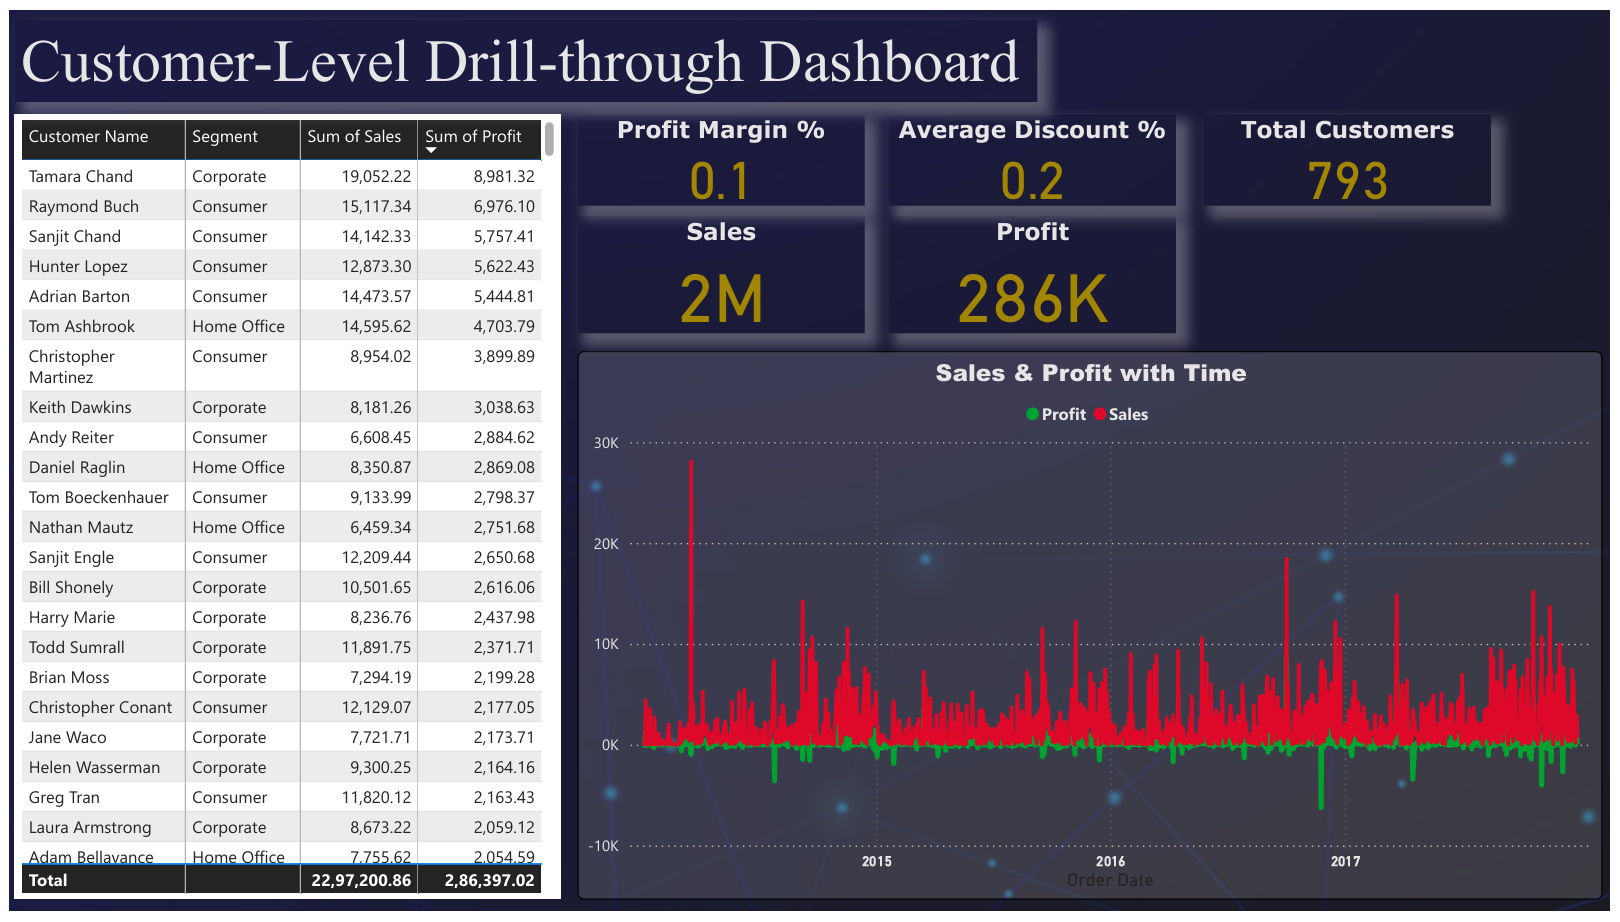

The page's visual inventory and layout, read from the dashboard file:
{"tool":"powerbi","page":{"name":"Details","canvas":[1280,720],"ordinal":1},"visuals":[{"type":"tableEx","fields":{"Values":["SalesData.Customer Name","SalesData.Segment","SalesData.Sales","SalesData.Profit"]},"box":[3.6,82.7,437.3,628.4],"z":0},{"type":"lineChart","title":"Sales & Profit with Time","fields":{"Y":["SalesData.Profit","SalesData.Sales"],"Category":["SalesData.Order Date.Variation.Date Hierarchy.Year"]},"box":[454.2,272,819.6,439.1],"z":1000},{"type":"textbox","box":[3.6,7.1,818.7,65.8],"z":2000},{"type":"card","title":"Sales","fields":{"Values":["SalesData.TotalSales"]},"box":[454.2,164.4,230.2,93.3],"z":3000},{"type":"card","title":"Profit","fields":{"Values":["SalesData.TotalProfit"]},"box":[703,164.4,230.2,93.3],"z":4000},{"type":"card","title":"Profit Margin %","fields":{"Values":["SalesData.ProfitMargin %"]},"box":[454.2,82.7,230.2,73.8],"z":5000},{"type":"card","title":"Average Discount %","fields":{"Values":["SalesData.AverageDiscount"]},"box":[703.1,82.7,230.2,73.8],"z":6000},{"type":"card","title":"Total Customers","fields":{"Values":["SalesData.TotalCustomers"]},"box":[954.7,82.7,230.2,73.8],"z":7000}]}

Visuals, with their boxes in screenshot pixels (x1, y1, x2, y2), scaled from the page's 1280x720 canvas onto the 1620x922 screenshot:
tableEx - SalesData.Customer Name x SalesData.Segment: (5, 106, 558, 911)
"Sales & Profit with Time" lineChart: (575, 348, 1612, 911)
textbox: (5, 9, 1041, 93)
"Sales" card: (575, 211, 866, 330)
"Profit" card: (890, 211, 1181, 330)
"Profit Margin %" card: (575, 106, 866, 200)
"Average Discount %" card: (890, 106, 1181, 200)
"Total Customers" card: (1208, 106, 1500, 200)
